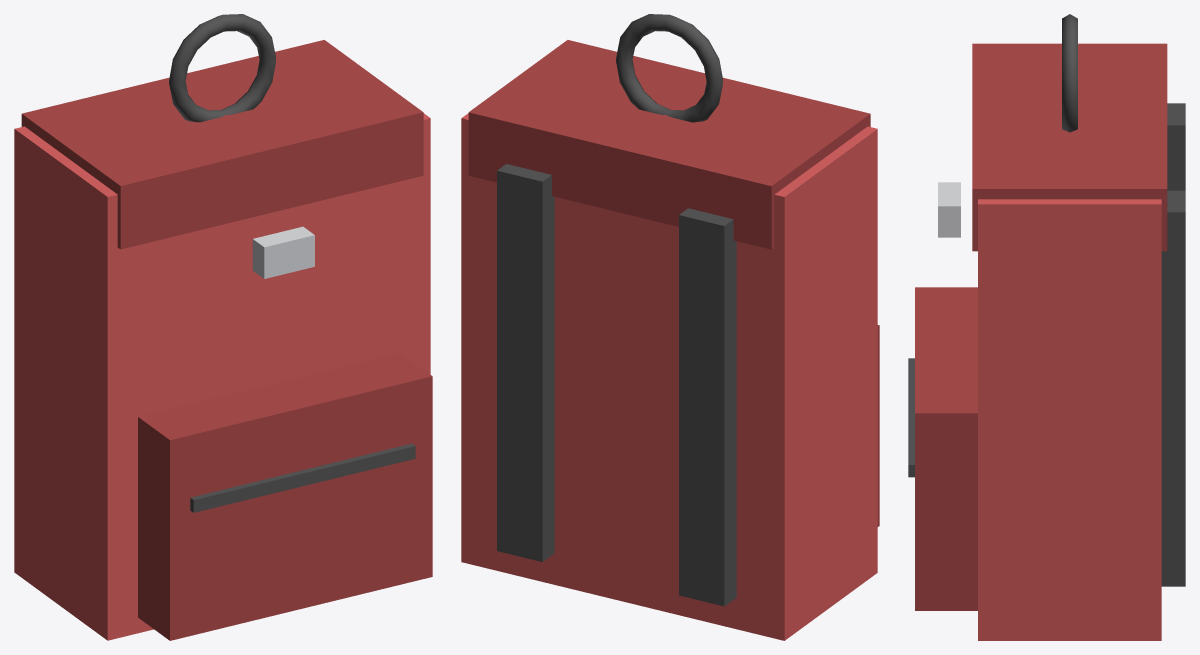
Rendered from ransel.glb.
3 renders of one model, left to right at view 1: azimuth 30°, elevation 25°; view 2: azimuth 150°, elevation 25°; view 3: azimuth 270°, elevation 25°, orthographic.
Visible parts, largest first — view 1: ransel_Mesh; view 2: ransel_Mesh; view 3: ransel_Mesh.
Part boxes in pixels (x1,y1,x2,y2): ransel_Mesh: [14, 14, 432, 640]; ransel_Mesh: [461, 14, 879, 640]; ransel_Mesh: [908, 14, 1185, 640].
Bounding box in the file's own units: 0.32 × 0.523 × 0.242.
